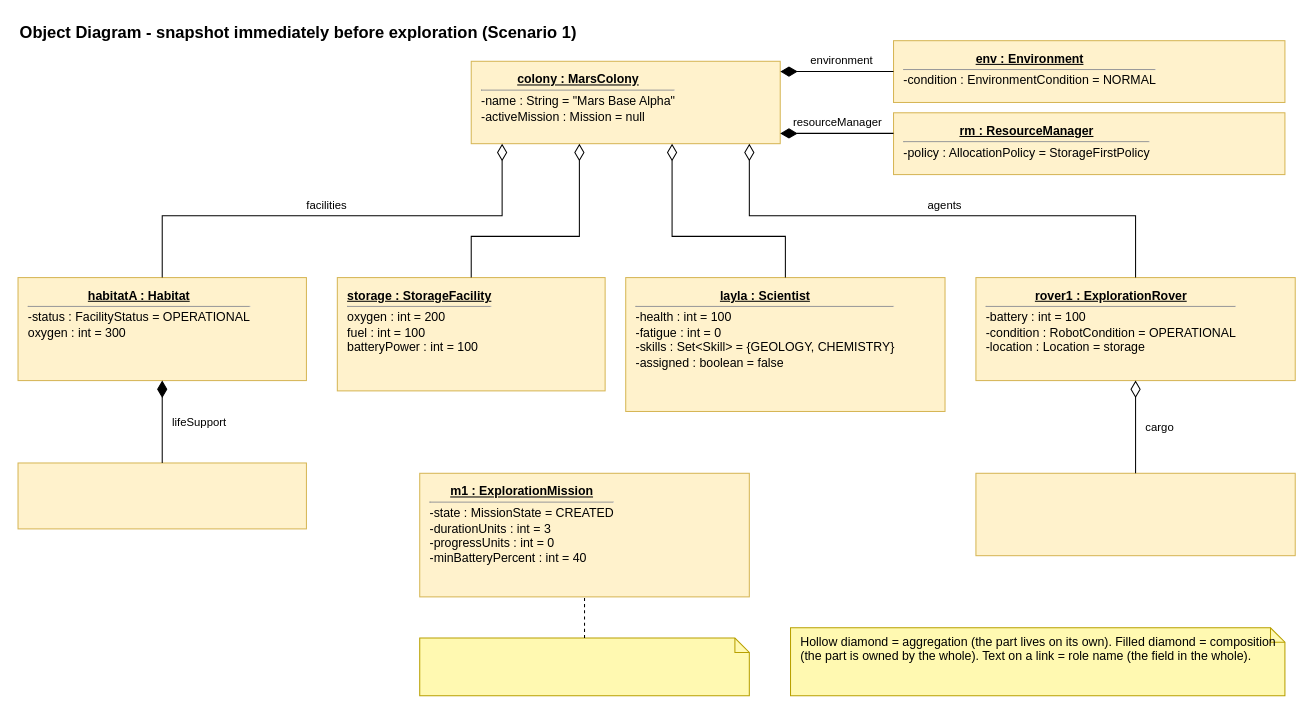
Image size: 1313x714. Some labels were removed from this diagram. The shapes that lost their labels are listed below. From the top down, each one's box as (x1, y1, x2, y2) in pixels, then its label:
(17, 462, 306, 529): lss : LifeSupportSystem -functional : boolean = true
(975, 472, 1295, 556): spectro : Equipment -name : String = "Spectrometer" -functional : boolean = true
(419, 637, 749, 696): m1 gets linked to layla and rover1 only after acceptance
